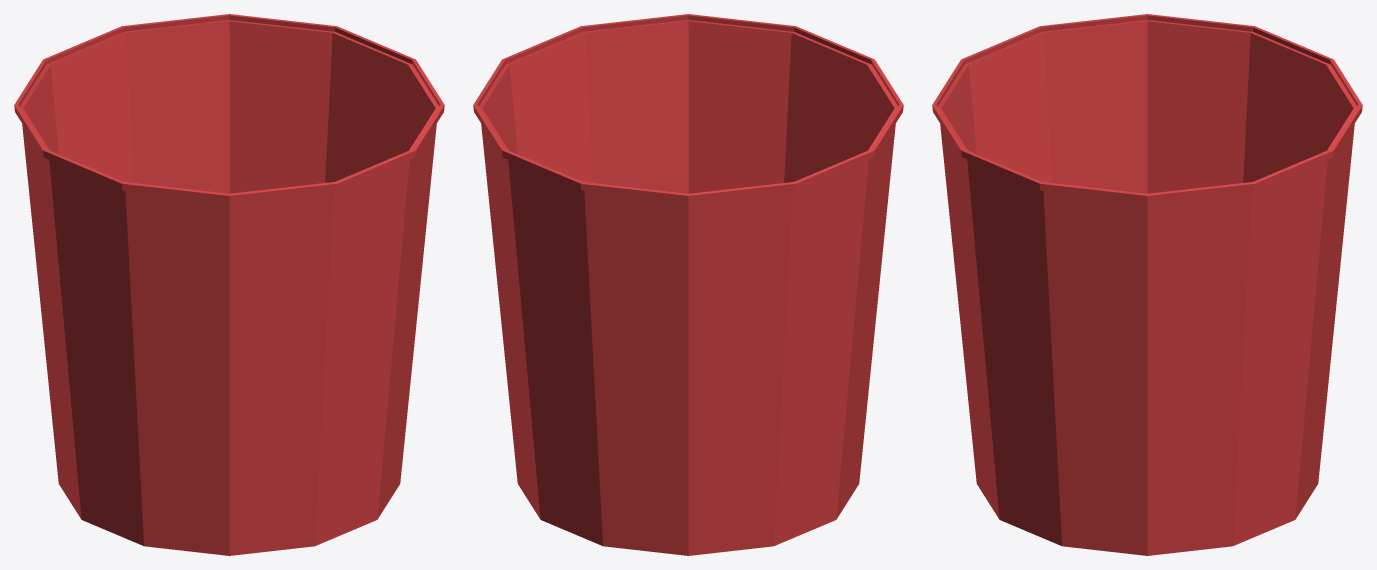
File: IceCreamBucket_TFSGJ_Spring2025.fbx
3 renders of one model, left to right at view 1: azimuth 30°, elevation 25°; view 2: azimuth 150°, elevation 25°; view 3: azimuth 270°, elevation 25°, orthographic.
Parts seen in each view (by area): view 1: Ice Cream Bucket; view 2: Ice Cream Bucket; view 3: Ice Cream Bucket.
Part boxes in pixels (bbox=[...]): Ice Cream Bucket: bbox=[14, 14, 444, 555]; Ice Cream Bucket: bbox=[473, 14, 903, 555]; Ice Cream Bucket: bbox=[932, 14, 1362, 555].
Bounding box in the file's own units: 20 × 19.44 × 20.
